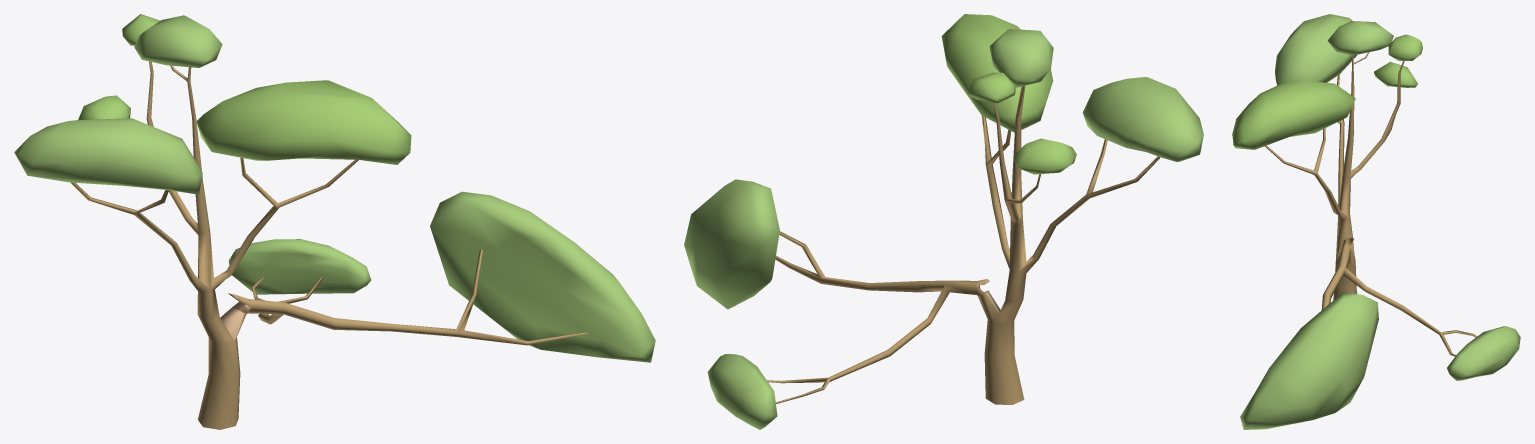
File: acacia-tree-crk-l-01.glb
The picture shows the model from 3 angles, left to right: view 1: azimuth 30°, elevation 25°; view 2: azimuth 150°, elevation 25°; view 3: azimuth 270°, elevation 25°; orthographic projection. The views are drawn at different scales.
Visible parts, largest first — view 1: Acacia_Tree_crk_l_01; view 2: Acacia_Tree_crk_l_01; view 3: Acacia_Tree_crk_l_01.
Boxes of the visible parts, <box> form: Acacia_Tree_crk_l_01: <box>14,14,655,429</box>; Acacia_Tree_crk_l_01: <box>684,14,1203,429</box>; Acacia_Tree_crk_l_01: <box>1232,14,1520,429</box>.
Bounding box in the file's own units: 17.83 × 11.81 × 10.85.
1 material, 1 textured.
